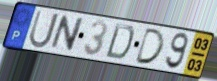3: (82, 18, 110, 58)
9: (164, 32, 190, 72)
D: (133, 27, 167, 66), (104, 22, 136, 61)
N: (48, 14, 86, 53)
U: (27, 9, 61, 50)
